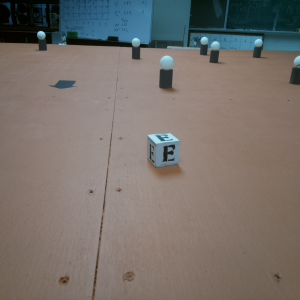obstacle: (160, 54, 174, 90), (287, 55, 300, 86), (252, 38, 265, 61), (207, 43, 220, 64), (37, 33, 49, 51), (199, 37, 209, 57), (132, 37, 139, 62)
